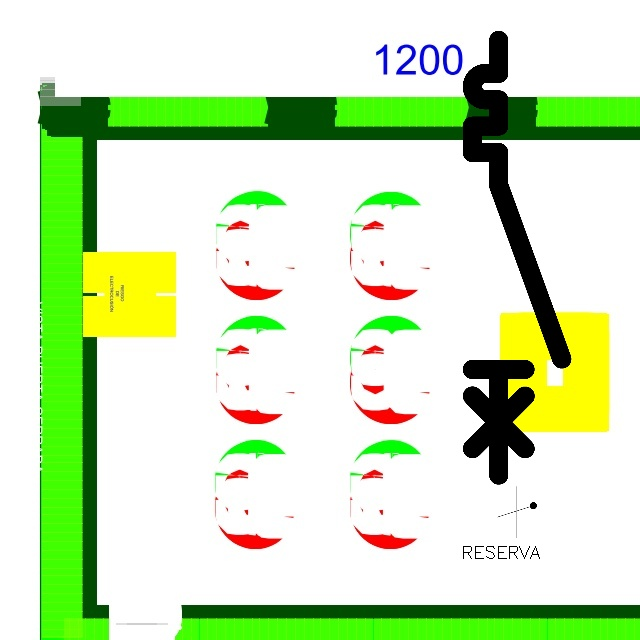interruptor_termomagnetico: (461, 29, 573, 486)
